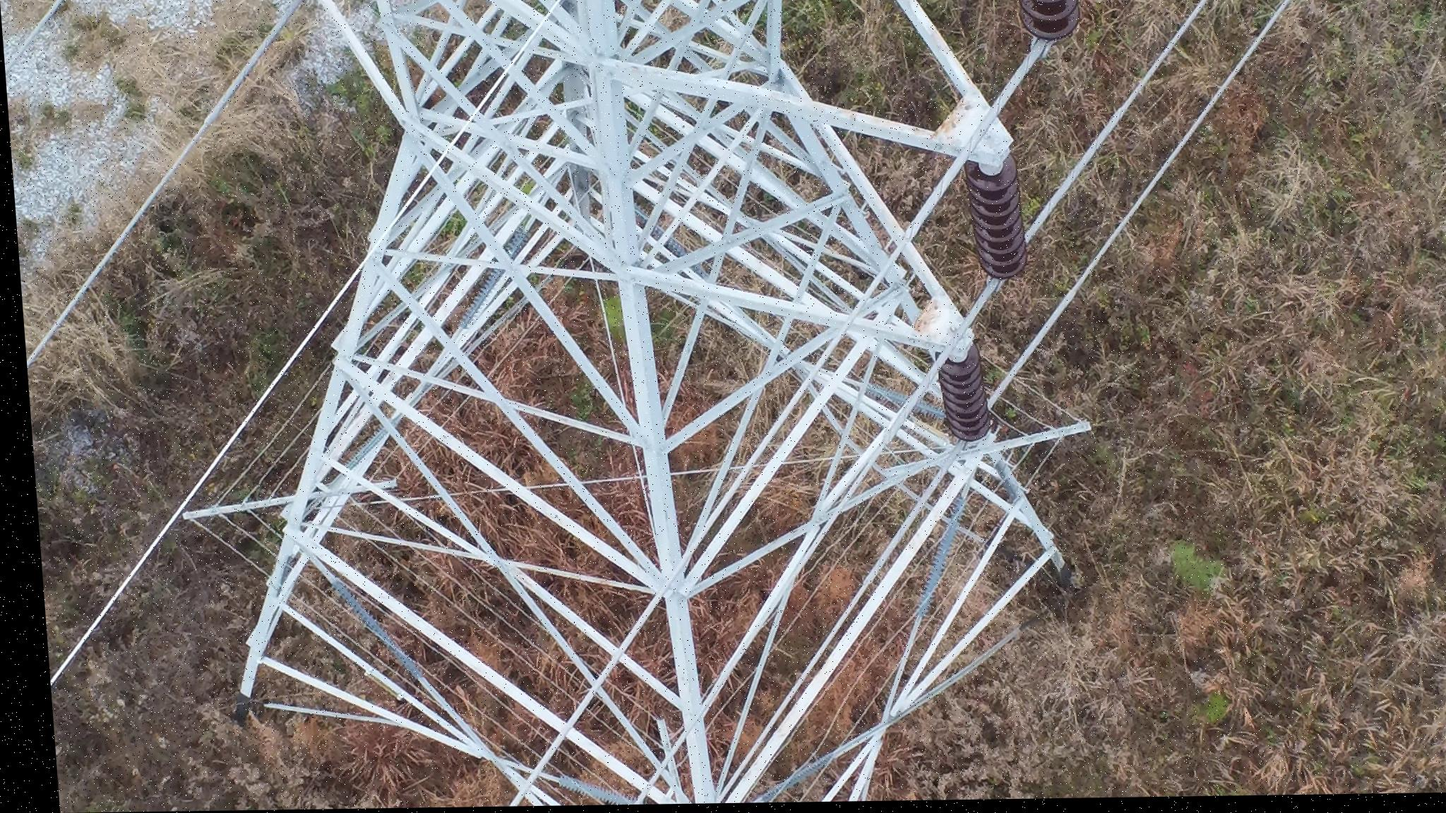tower: (182, 0, 1079, 810)
